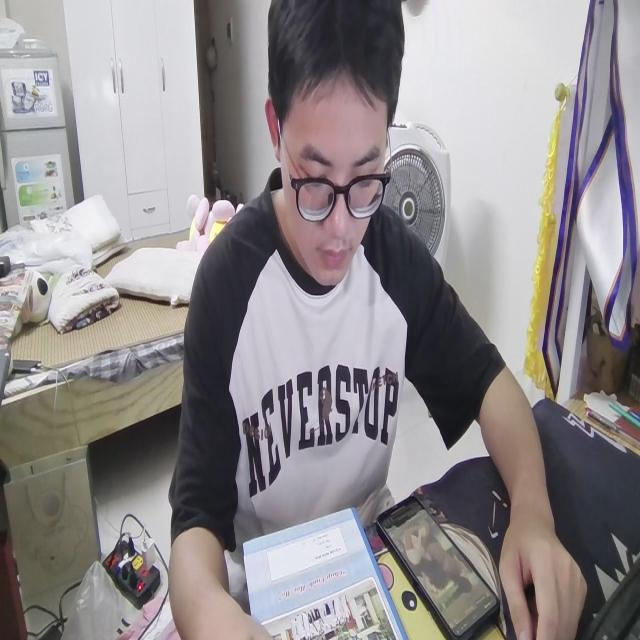book: (242, 506, 410, 640)
phone: (376, 491, 501, 640)
student: (169, 0, 587, 640)
